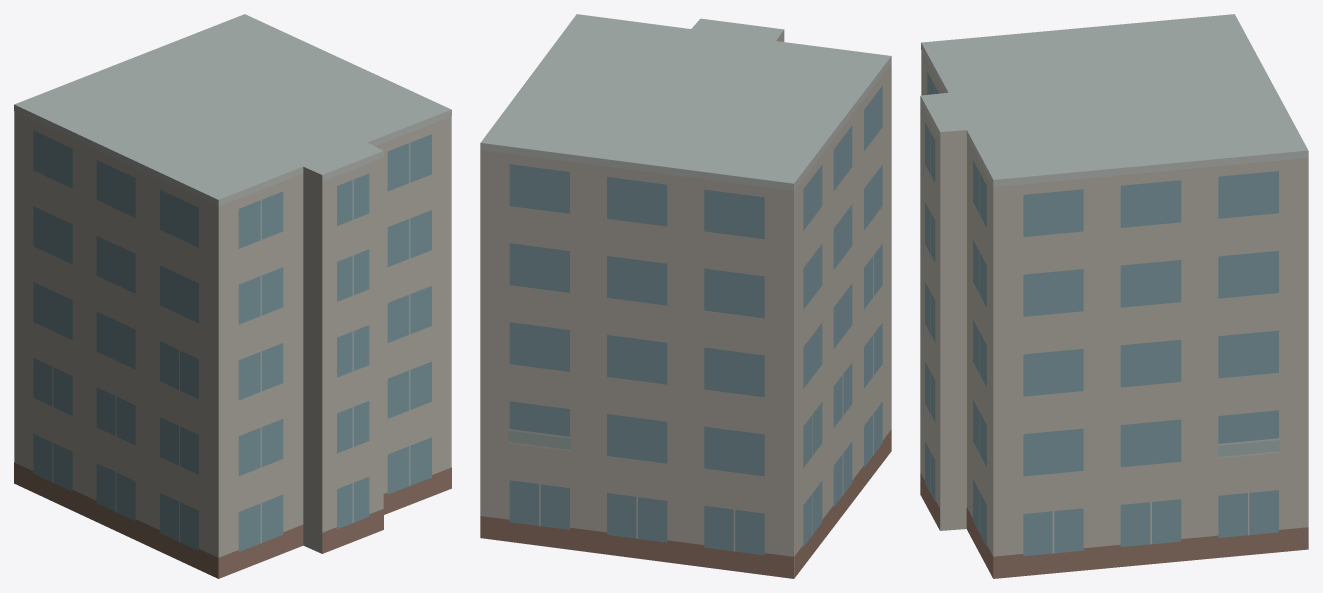
The model's file is survey-upis-32859687.glb.
The picture shows the model from 3 angles, left to right: view 1: azimuth 30°, elevation 25°; view 2: azimuth 150°, elevation 25°; view 3: azimuth 270°, elevation 25°; orthographic projection. The views are drawn at different scales.
Parts seen in each view (by area): view 1: survey-upis-32859687.tmp; view 2: survey-upis-32859687.tmp; view 3: survey-upis-32859687.tmp.
Boxes of the visible parts, left/top/right/bottom form: survey-upis-32859687.tmp: left=14, top=14, right=451, bottom=578; survey-upis-32859687.tmp: left=480, top=14, right=891, bottom=578; survey-upis-32859687.tmp: left=920, top=14, right=1308, bottom=578.
Bounding box in the file's own units: 12.05 × 13.5 × 11.91.
